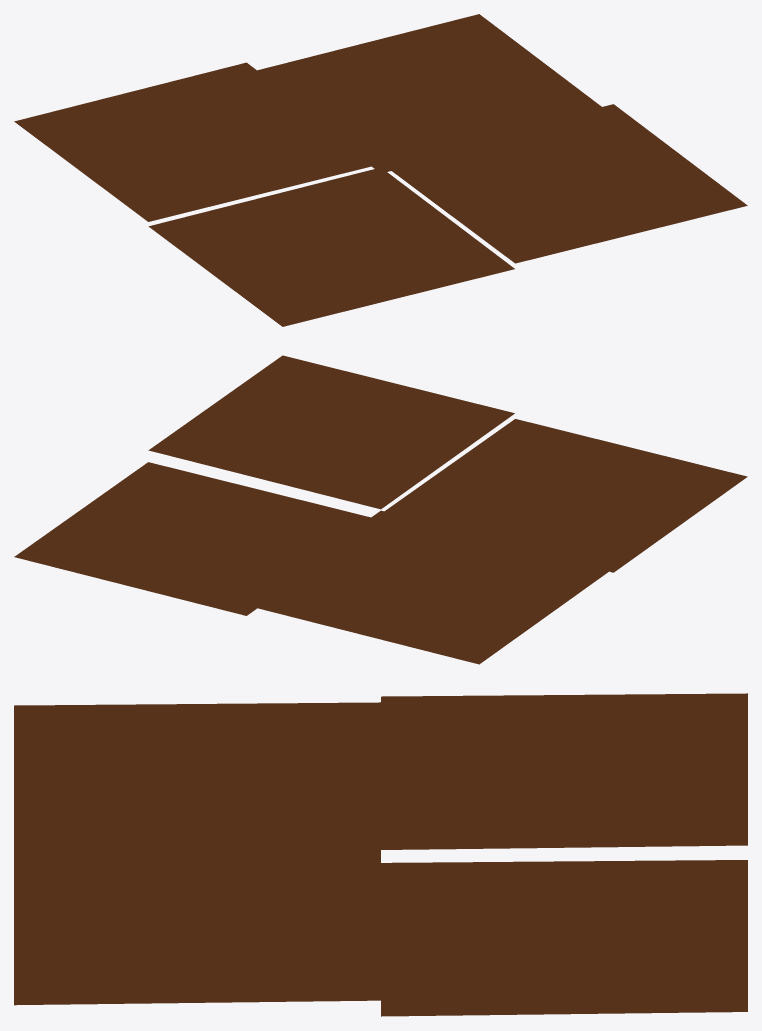
3 views of the same model, one above another, from view 1: azimuth 30°, elevation 25°; view 2: azimuth 150°, elevation 25°; view 3: azimuth 270°, elevation 25° (orthographic). The views are drawn at different scales.
Visible parts, largest first — view 1: IL3DN_Dead_Leaf_Decal_02_LOD0; view 2: IL3DN_Dead_Leaf_Decal_02_LOD0; view 3: IL3DN_Dead_Leaf_Decal_02_LOD0.
Boxes of the visible parts, <box> form: IL3DN_Dead_Leaf_Decal_02_LOD0: <box>14,14,747,326</box>; IL3DN_Dead_Leaf_Decal_02_LOD0: <box>14,355,747,664</box>; IL3DN_Dead_Leaf_Decal_02_LOD0: <box>14,693,747,1016</box>.
Bounding box in the file's own units: 440 × 11.48 × 440.
